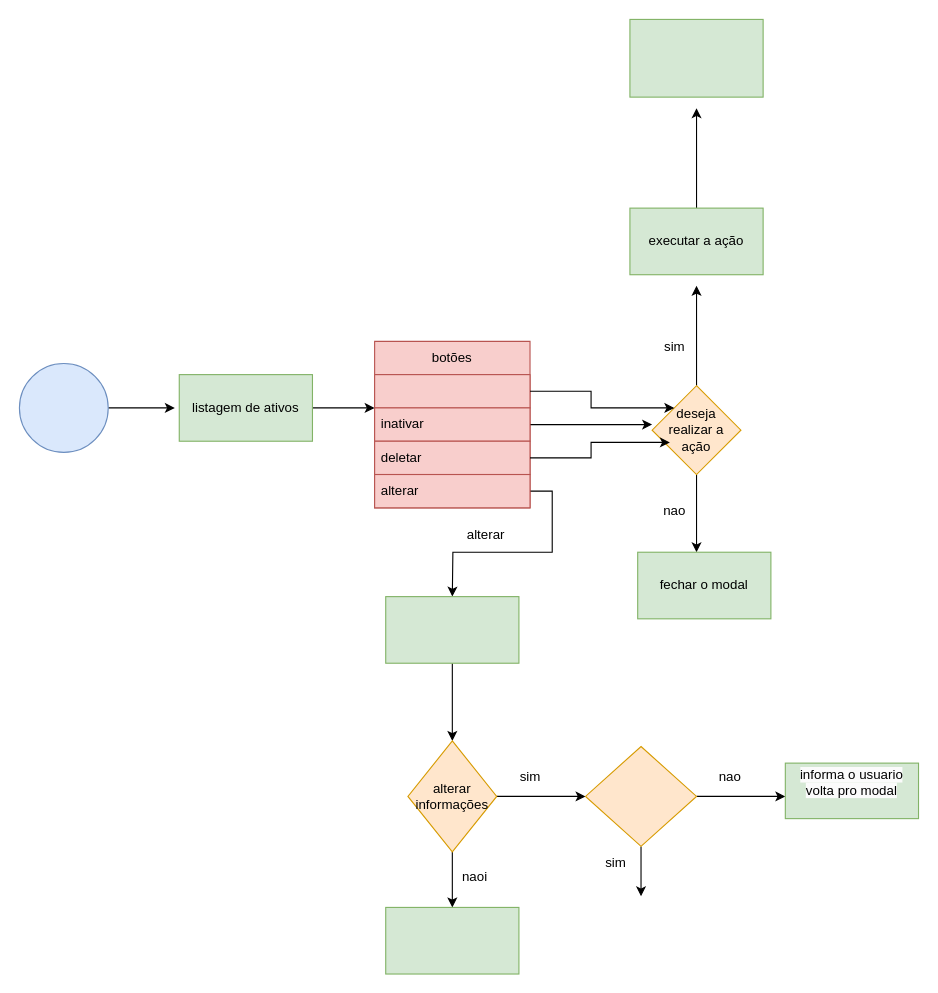
The diagram is 938 pixels wide and 993 high, and some of its shapes have lost their labels. The box of each missing label's shape, as (x1, y1, x2, y2) in pixels:
abrir modal com as informações do ativo: (385, 596, 519, 663)
ativar: (374, 374, 530, 408)
exibe informações do ativo: (385, 906, 519, 974)
inicio: (18, 362, 108, 452)
validar os dados com as mesmas regras do cadastro: (584, 745, 697, 846)
